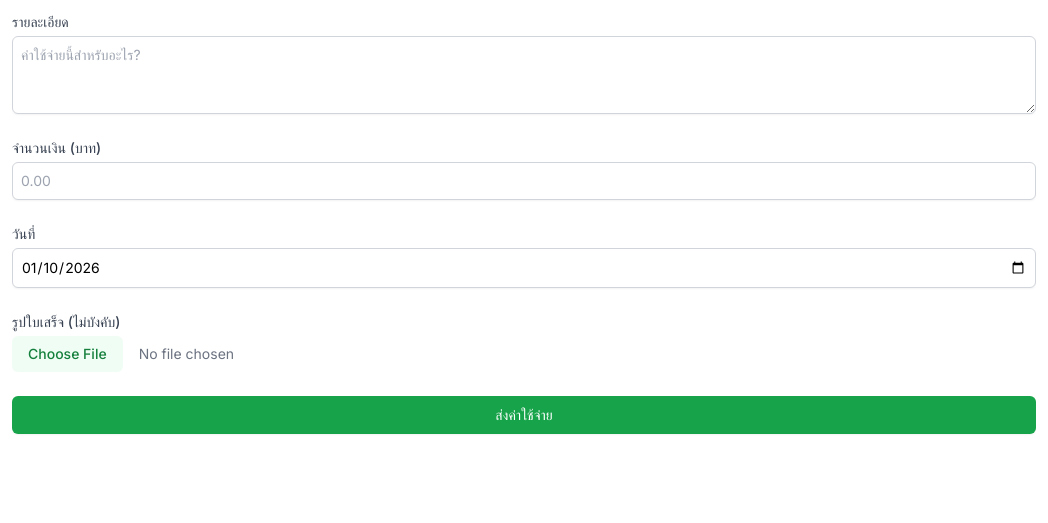
Test case: ExpenseForm › should display error message on API failure
In the text box labelled "รายละเอียด": (524, 75) [12,36,1036,114], type "Test"
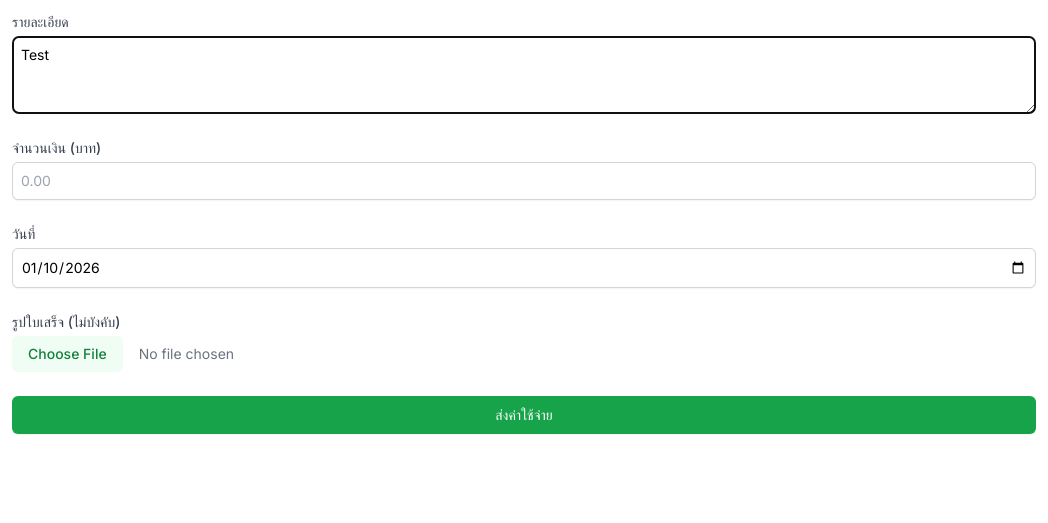
In the number field labelled "จำนวนเงิน (บาท)": (524, 181) [12,162,1036,200], type "100"
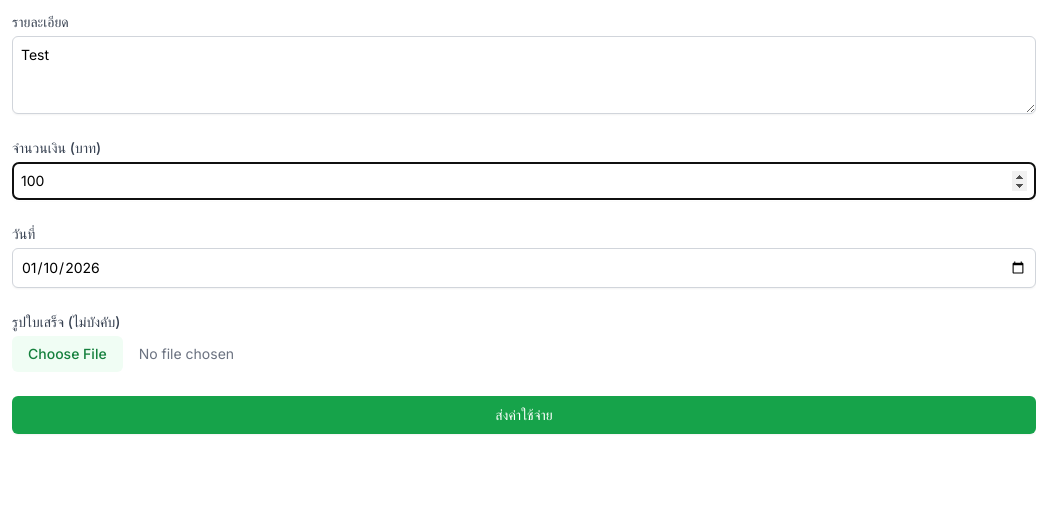
Click the button "ส่งค่าใช้จ่าย": (524, 415) [12,396,1036,434]
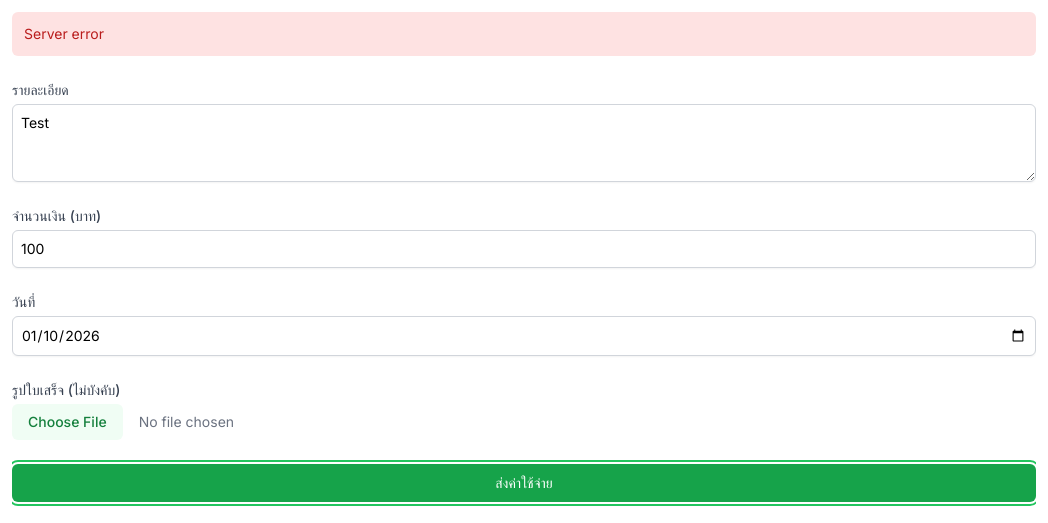
Now the text "Server error" is shown, box [12,12,1036,56]
